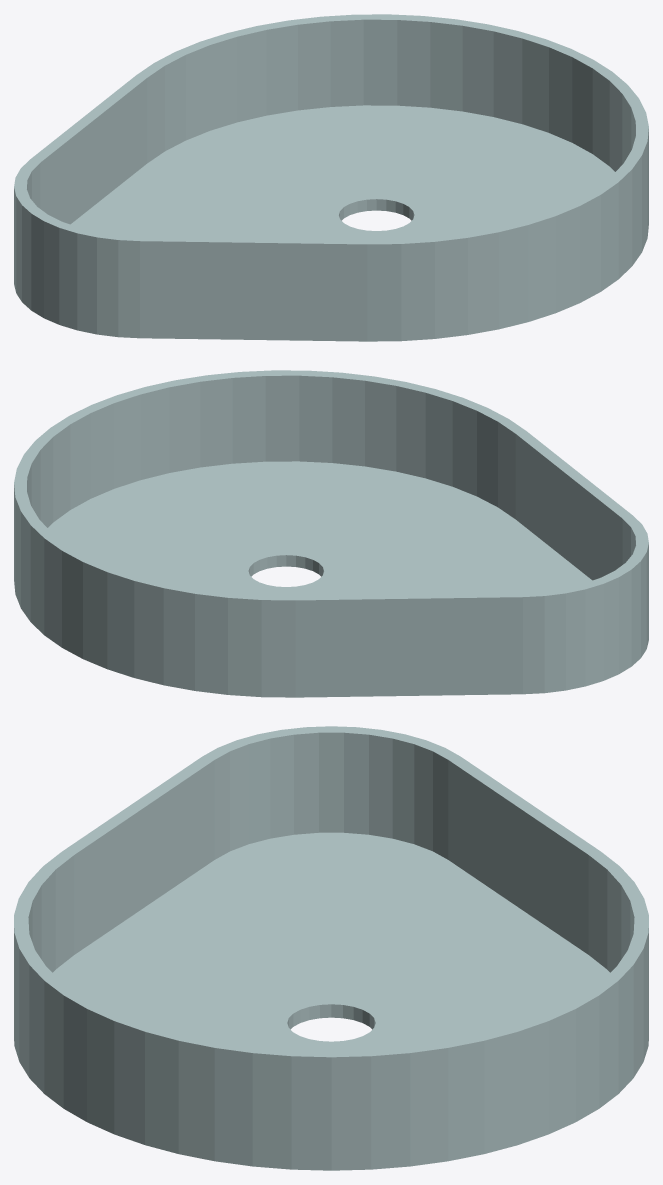
Rendered from tapa.glb.
3 renders of one model, top to bottom at view 1: azimuth 30°, elevation 25°; view 2: azimuth 150°, elevation 25°; view 3: azimuth 270°, elevation 25°, orthographic. The views are drawn at different scales.
Parts seen in each view (by area): view 1: tapa de caja de engranaje; view 2: tapa de caja de engranaje; view 3: tapa de caja de engranaje.
Part boxes in pixels (x1,y1,x2,y2): tapa de caja de engranaje: (14,14,648,341); tapa de caja de engranaje: (14,370,648,697); tapa de caja de engranaje: (14,726,648,1170).
Size of the model in its own units: 0.1064 by 0.017 by 0.0863.
